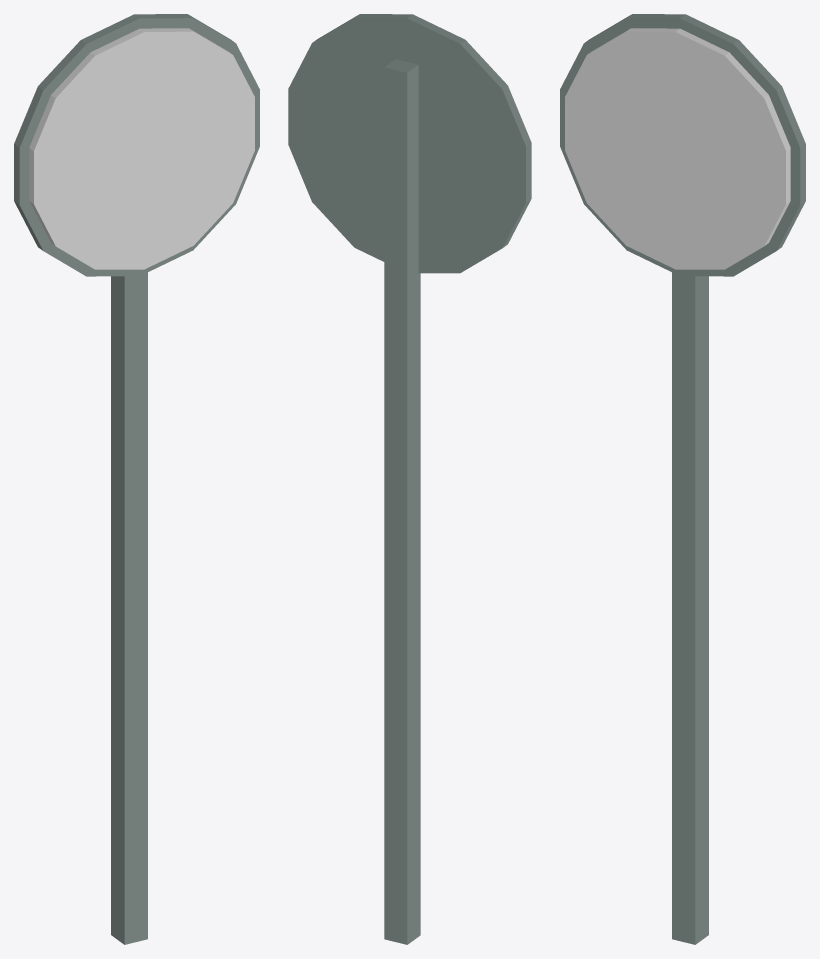
File: SM_Senal_v1_Redonda_LOD0.fbx
3 renders of one model, left to right at view 1: azimuth 30°, elevation 25°; view 2: azimuth 150°, elevation 25°; view 3: azimuth 330°, elevation 25°, orthographic.
Parts seen in each view (by area): view 1: SM_urbano_extra_v16_LOD0; view 2: SM_urbano_extra_v16_LOD0; view 3: SM_urbano_extra_v16_LOD0.
Part boxes in pixels (x1,y1,x2,y2): SM_urbano_extra_v16_LOD0: (14,14,259,944); SM_urbano_extra_v16_LOD0: (288,14,531,944); SM_urbano_extra_v16_LOD0: (560,14,805,944).
Size of the model in its own units: 0.7409 by 2.73 by 0.116.
